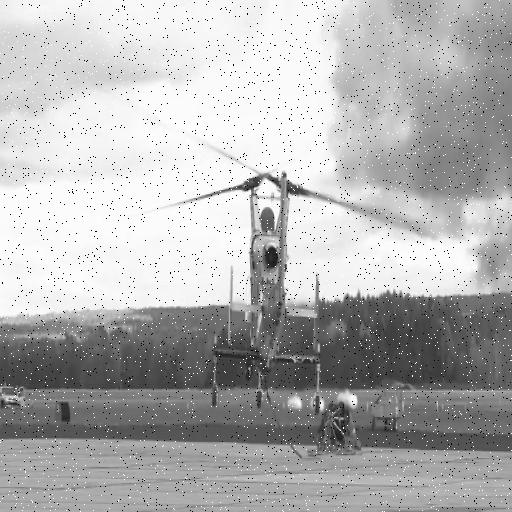helicopter: (185, 145, 345, 413)
